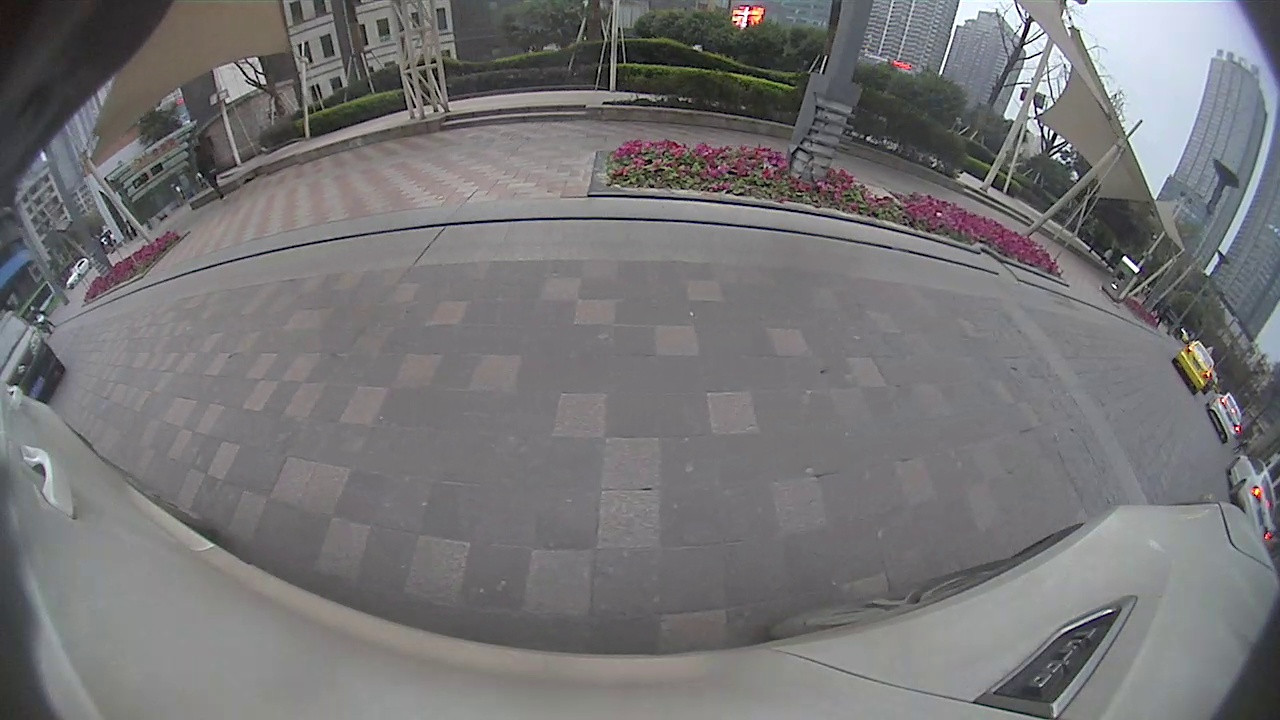car: (1, 309, 66, 403), (1227, 454, 1278, 547), (1170, 337, 1216, 393), (1206, 388, 1243, 444)
